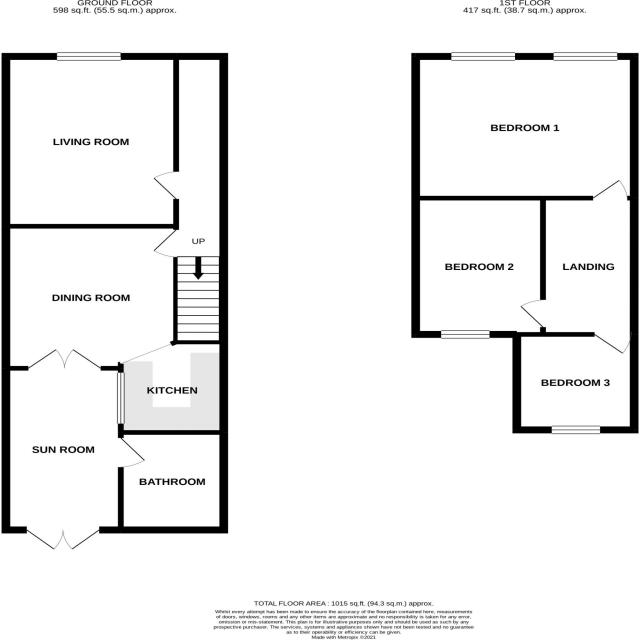DOOR: (591, 329, 636, 357), (115, 436, 149, 470), (515, 298, 549, 331), (590, 177, 630, 203), (148, 227, 180, 259), (150, 169, 181, 202)
DOUBLE DOOR: (24, 345, 104, 372)
ROOM: (2, 220, 231, 437), (408, 52, 640, 201), (0, 50, 182, 231), (409, 195, 547, 339), (511, 330, 640, 434)
WINDOW: (550, 50, 620, 63), (449, 50, 518, 62), (53, 51, 123, 62), (114, 371, 128, 425), (549, 423, 603, 435), (439, 329, 492, 341)
